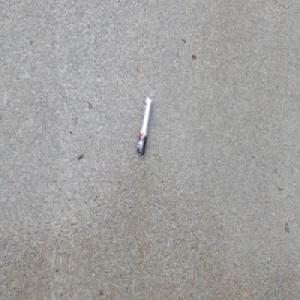Battery: (136, 95, 152, 156)
